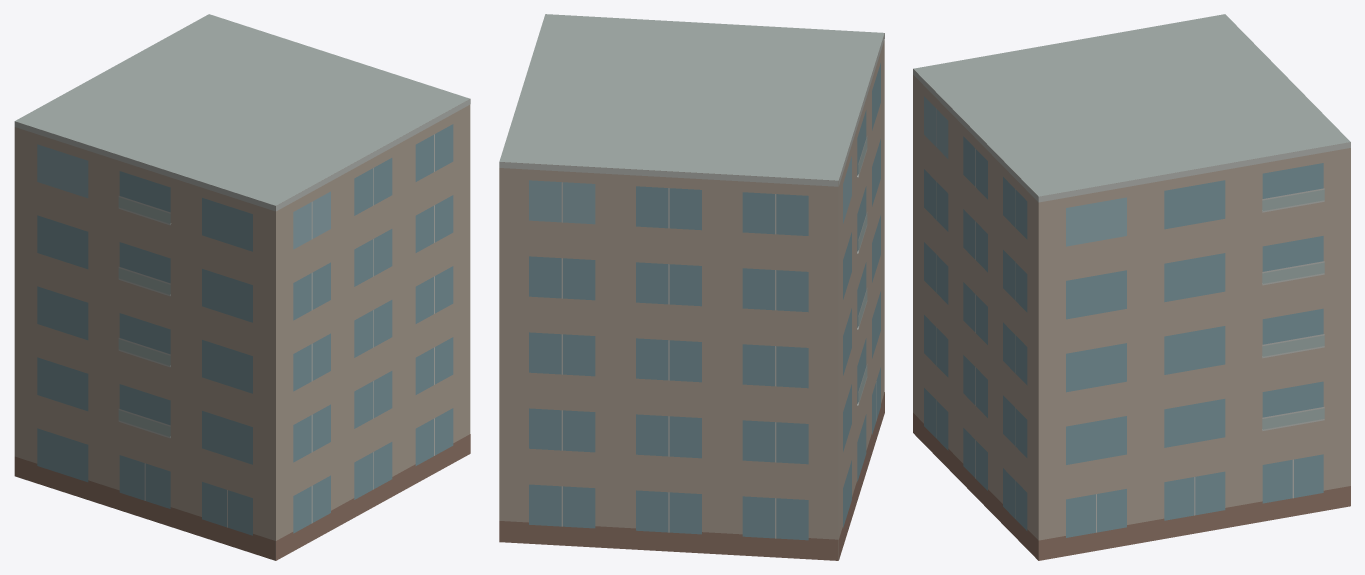
Rendered from residential-f7abc357-18ef-486b-af30-ea42d851de88.glb.
The picture shows the model from 3 angles, left to right: view 1: azimuth 30°, elevation 25°; view 2: azimuth 150°, elevation 25°; view 3: azimuth 270°, elevation 25°; orthographic projection. The views are drawn at different scales.
Parts seen in each view (by area): view 1: residential-f7abc357-18ef-486b-af30-ea42d851de88.tmp; view 2: residential-f7abc357-18ef-486b-af30-ea42d851de88.tmp; view 3: residential-f7abc357-18ef-486b-af30-ea42d851de88.tmp.
Boxes of the visible parts, x1,y1,x2,y2 form: residential-f7abc357-18ef-486b-af30-ea42d851de88.tmp: (14,14,470,560); residential-f7abc357-18ef-486b-af30-ea42d851de88.tmp: (499,14,884,560); residential-f7abc357-18ef-486b-af30-ea42d851de88.tmp: (913,14,1350,560).
Size of the model in its own units: 16.41 by 15.25 by 16.62.
